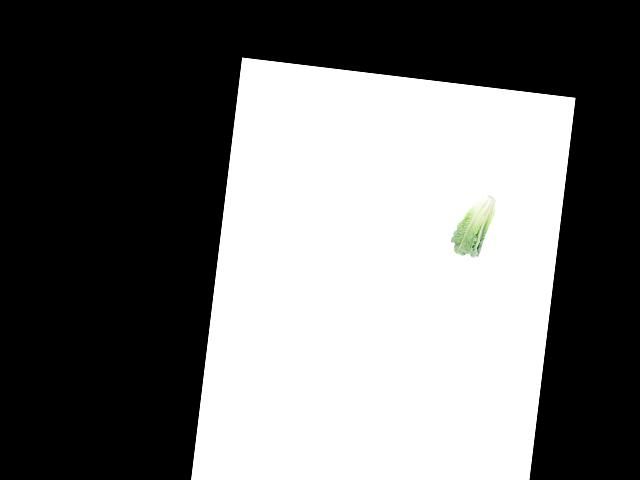lettuce: (450, 188, 499, 261)
